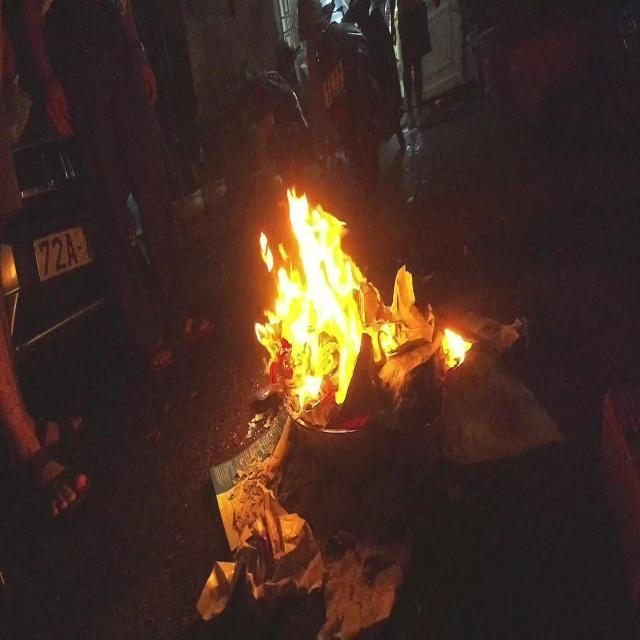Fire: (252, 177, 474, 430)
